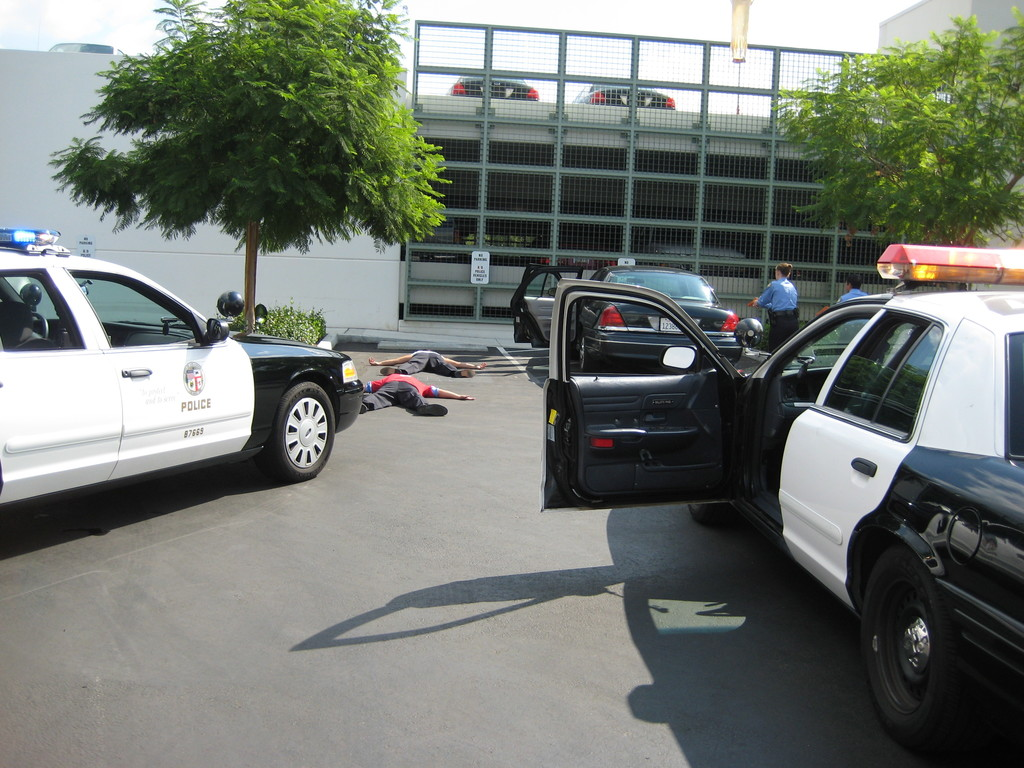Car: (536, 238, 1023, 755), (0, 225, 366, 512), (507, 254, 744, 365), (569, 81, 678, 109), (445, 74, 539, 101), (43, 39, 126, 53)
